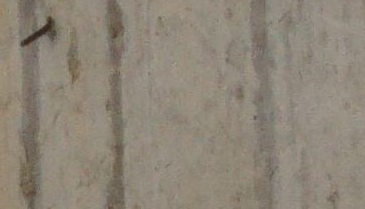Exposed reinforcement: (19, 22, 52, 48)
